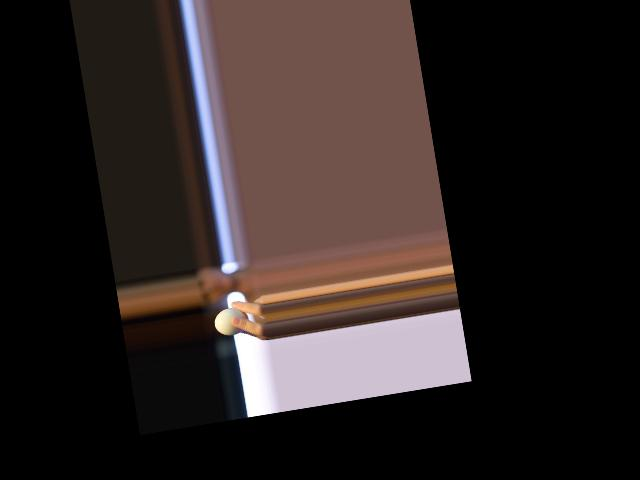egg: (212, 304, 250, 337)
